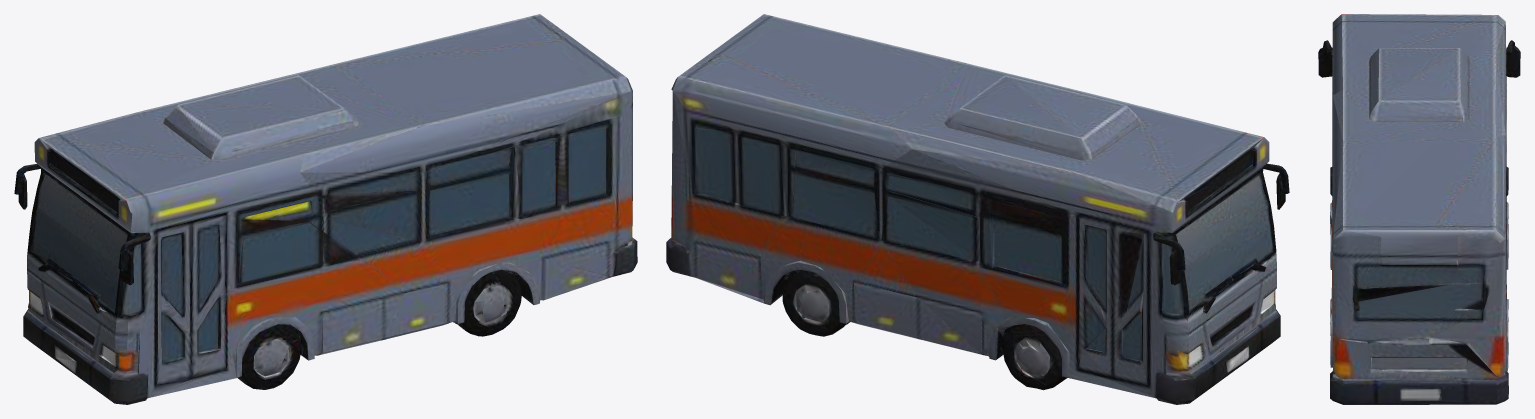
Rendered from bus.glb.
3 views of the same model, side by side, from view 1: azimuth 30°, elevation 25°; view 2: azimuth 150°, elevation 25°; view 3: azimuth 270°, elevation 25° (orthographic). The views are drawn at different scales.
Size of the model in its own units: 1.9 by 0.8248 by 0.7009.
1 material, 1 textured.
